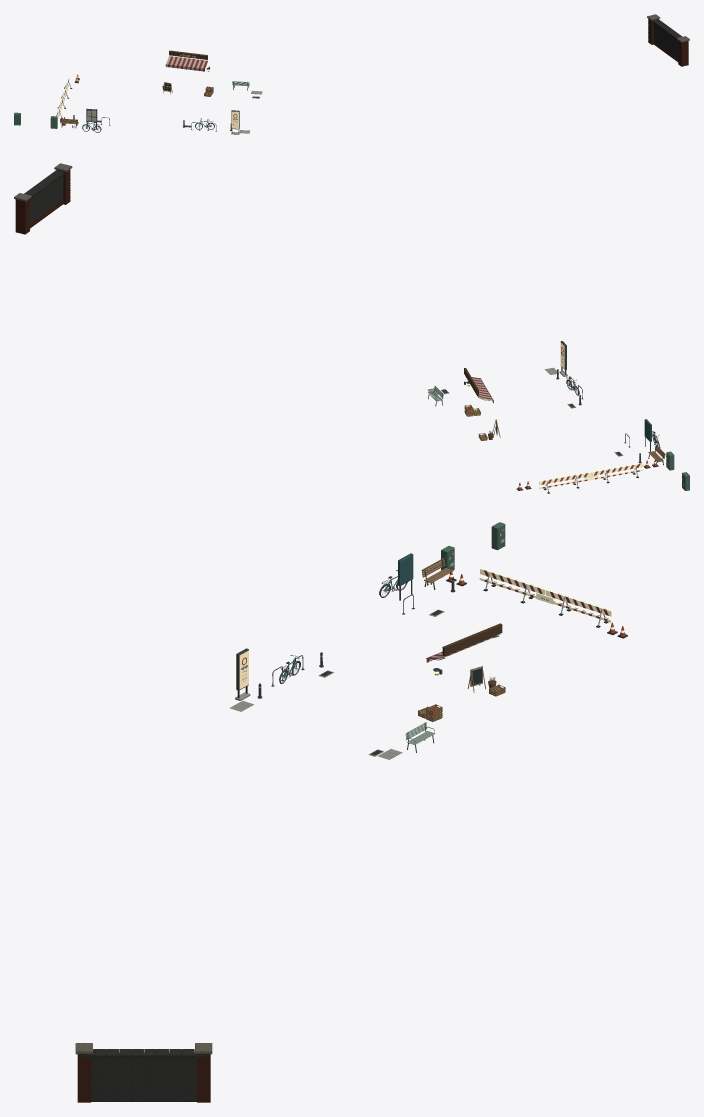
Rendered from cosy-street.glb.
The picture shows the model from 3 angles, top to bottom: view 1: azimuth 30°, elevation 25°; view 2: azimuth 150°, elevation 25°; view 3: azimuth 270°, elevation 25°; orthographic projection. The views are drawn at different scales.
Parts seen in each view (by area): view 1: Park_WallClosure_Brick, Park_WallClosure_Graffiti_Wall, Cosy_Street_Weathered dark cast iron, Building_North_Cosy_Cosy faded linen canvas, Building_North_Cosy_Cosy burgundy canvas, Park_WallClosure_Stone_Dark; view 2: Park_WallClosure_Brick, Park_WallClosure_Graffiti_Wall, Cosy_Street_Cosy warm chalk lettering; view 3: Park_WallClosure_Graffiti_Wall, Park_WallClosure_Brick, Cosy_Street_Cosy warm chalk lettering, Park_WallClosure_Stone_Dark, Cosy_Street_Weathered dark cast iron.
Part boxes in pixels (x1=…): Park_WallClosure_Brick: x1=648, y1=19, x2=688, y2=66; Park_WallClosure_Graffiti_Wall: x1=653, y1=23, x2=678, y2=60; Cosy_Street_Weathered dark cast iron: x1=61, y1=82, x2=259, y2=132; Building_North_Cosy_Cosy faded linen canvas: x1=165, y1=56, x2=205, y2=71; Building_North_Cosy_Cosy burgundy canvas: x1=168, y1=56, x2=207, y2=71; Park_WallClosure_Stone_Dark: x1=648, y1=19, x2=682, y2=65; Park_WallClosure_Brick: x1=15, y1=169, x2=70, y2=234; Park_WallClosure_Graffiti_Wall: x1=30, y1=176, x2=63, y2=225; Cosy_Street_Cosy warm chalk lettering: x1=518, y1=462, x2=656, y2=488; Park_WallClosure_Graffiti_Wall: x1=91, y1=1053, x2=196, y2=1101; Park_WallClosure_Brick: x1=77, y1=1054, x2=210, y2=1102; Cosy_Street_Cosy warm chalk lettering: x1=449, y1=568, x2=624, y2=632; Park_WallClosure_Stone_Dark: x1=81, y1=1049, x2=206, y2=1058; Cosy_Street_Weathered dark cast iron: x1=236, y1=525, x2=505, y2=755.
Bounding box in the file's own units: 63.11 × 4 × 26.48.
34 materials, 4 textured.
